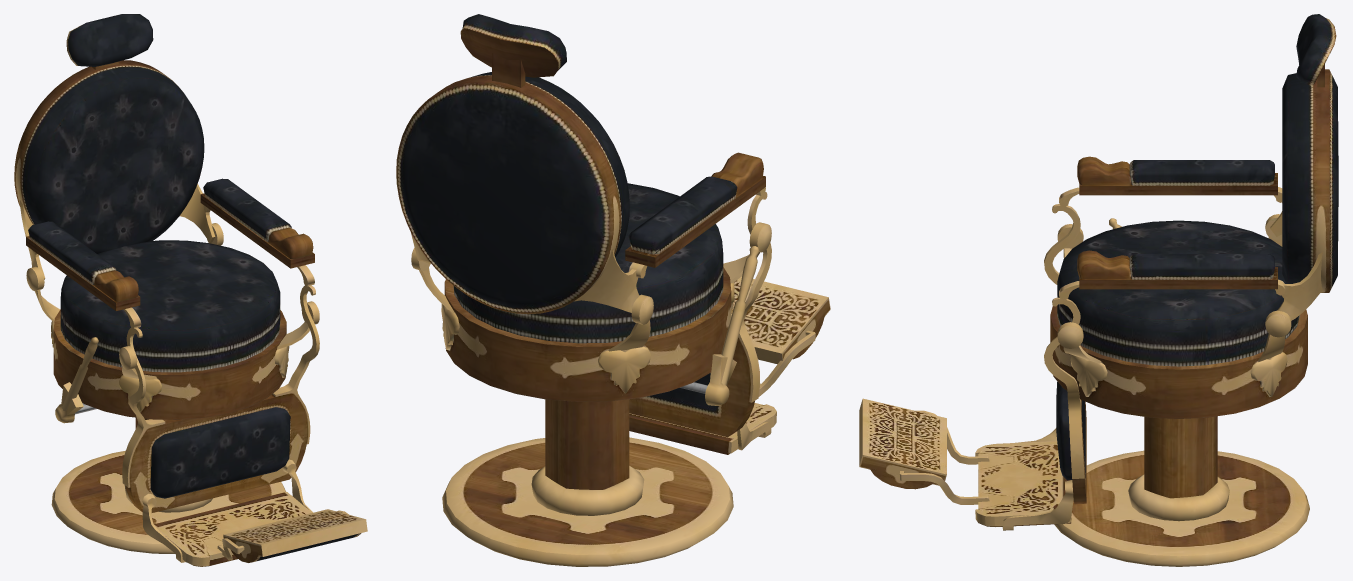
The model's file is cadeira.glb.
3 views of the same model, side by side, from view 1: azimuth 30°, elevation 25°; view 2: azimuth 150°, elevation 25°; view 3: azimuth 270°, elevation 25° (orthographic). The views are drawn at different scales.
Visible parts, largest first — view 1: BarberShopChair_01; view 2: BarberShopChair_01; view 3: BarberShopChair_01.
Part boxes in pixels (box(x1,y1,x2,y2)): BarberShopChair_01: box(14, 14, 367, 566); BarberShopChair_01: box(396, 14, 830, 566); BarberShopChair_01: box(859, 14, 1338, 566).
Bounding box in the file's own units: 0.7565 × 1.49 × 1.33.
Materials: 1 (1 with a texture image).
